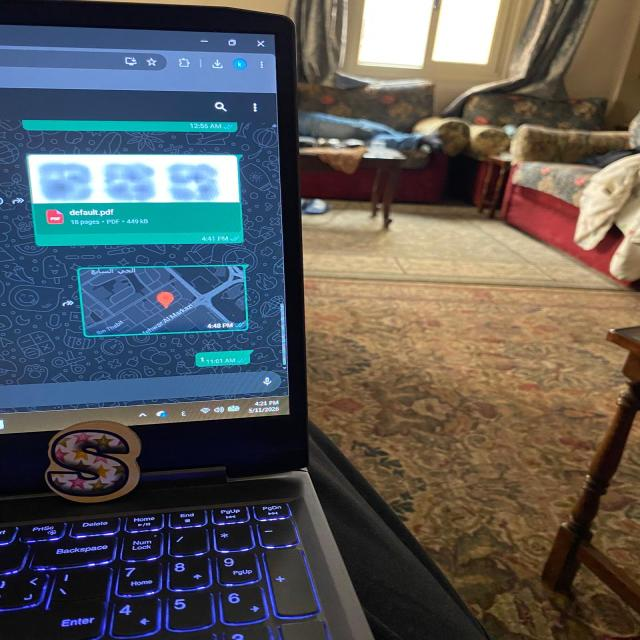S: (45, 421, 141, 502)
